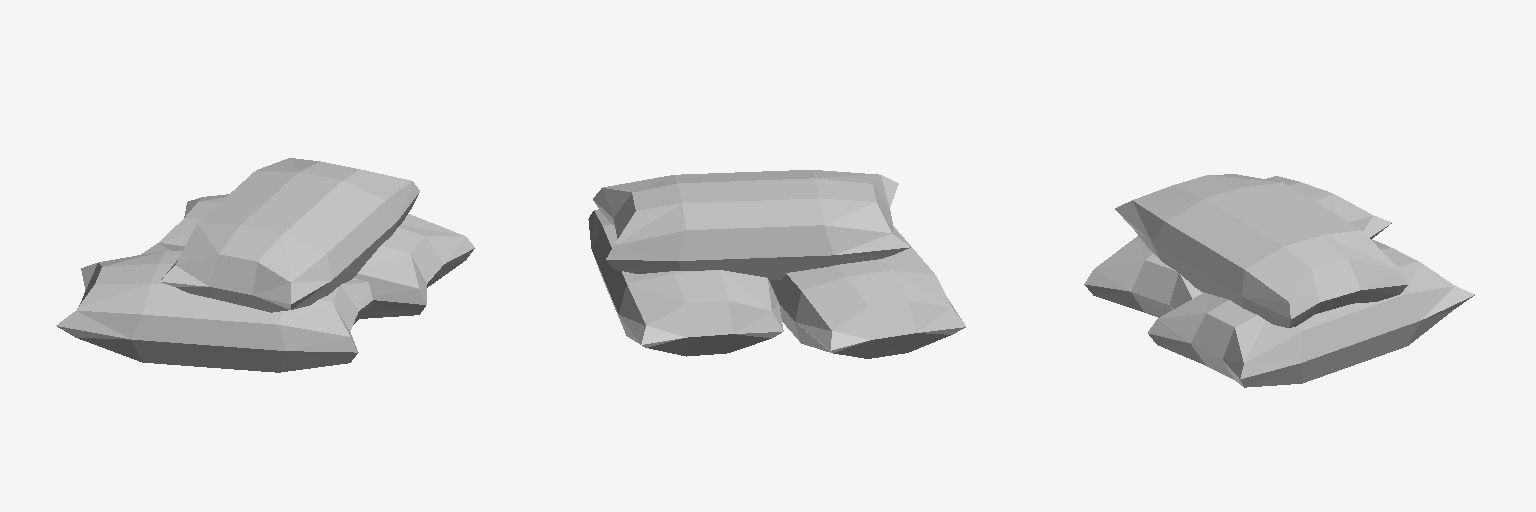
File: Barrier.obj
The picture shows the model from 3 angles: view 1: azimuth 30°, elevation 25°; view 2: azimuth 150°, elevation 25°; view 3: azimuth 270°, elevation 25°; orthographic projection.
Parts seen in each view (by area): view 1: barrier; view 2: barrier; view 3: barrier.
Part boxes in pixels (x1,y1,x2,y2): barrier: (56,158,474,372); barrier: (588,170,965,358); barrier: (1084,174,1474,387).
Bounding box in the file's own units: 2.1 × 0.5267 × 1.78.